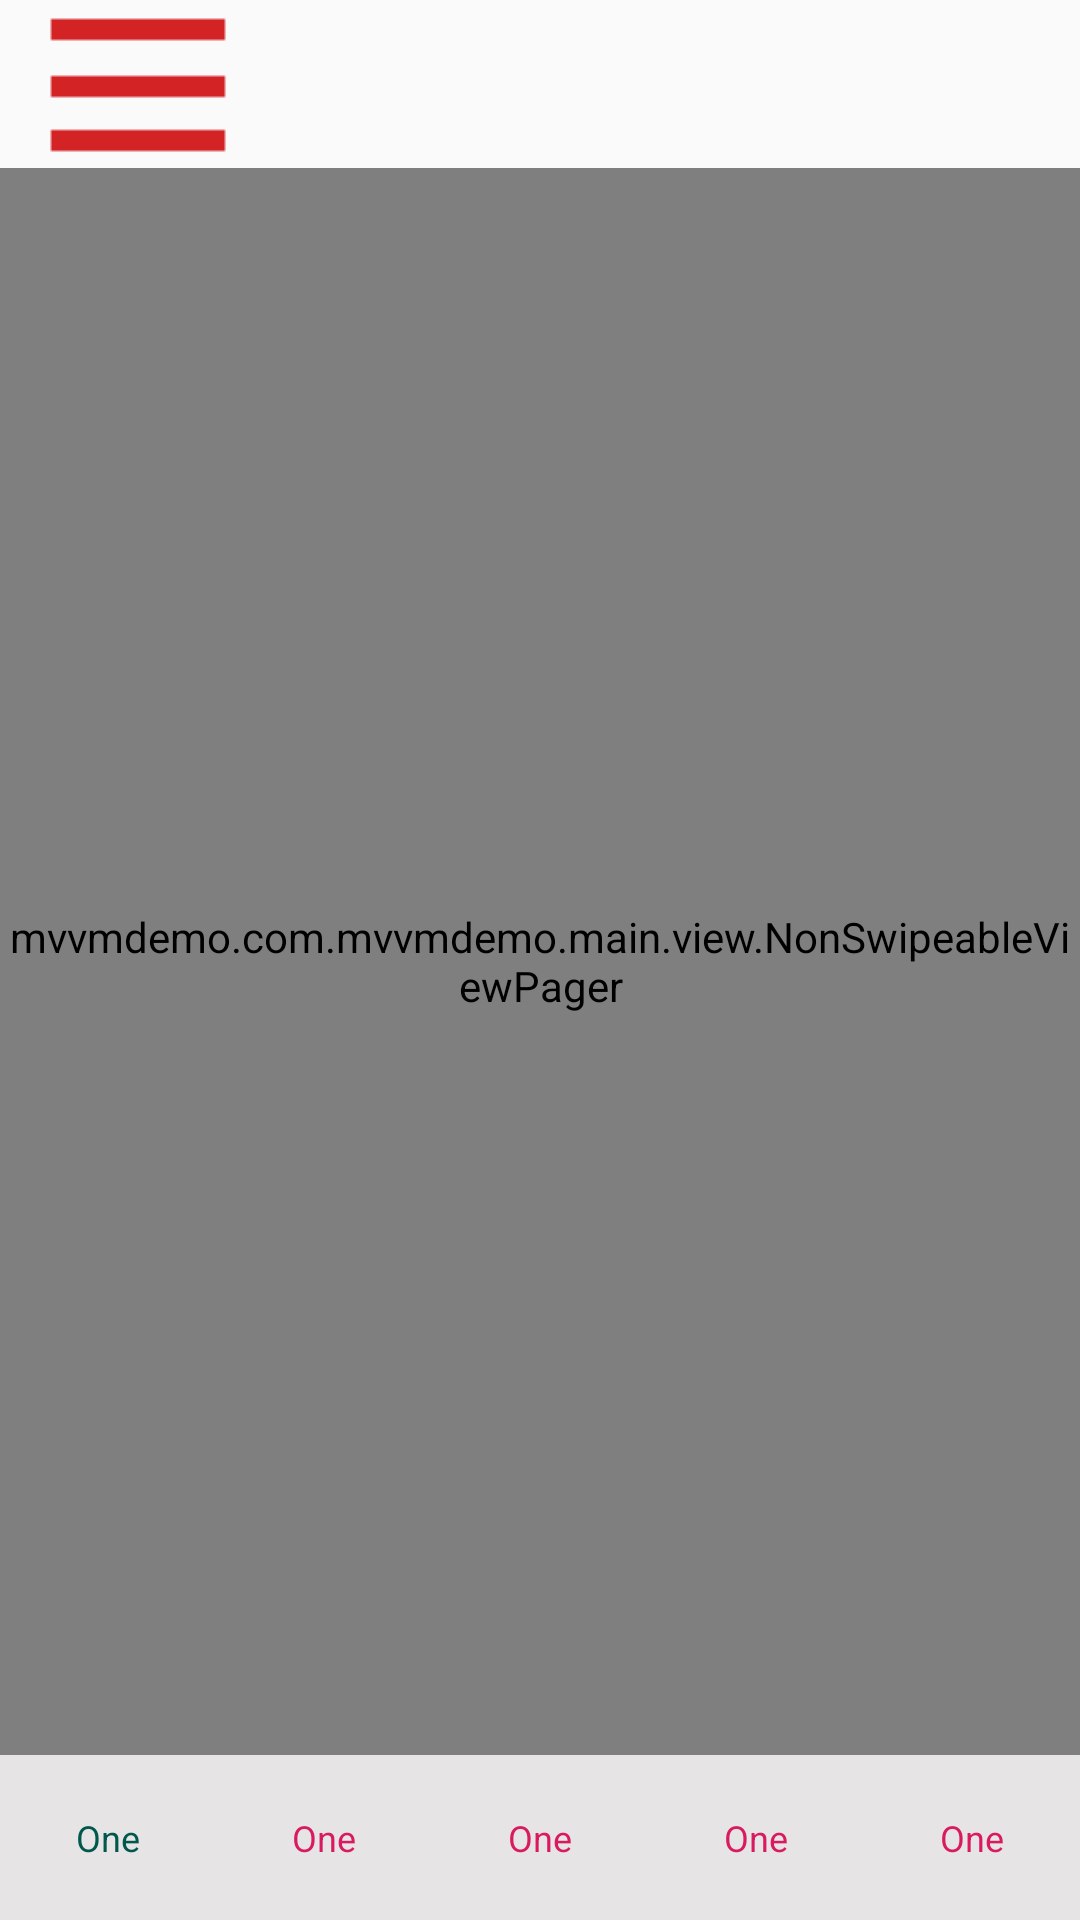

Where to tap for icons on this 1080 x 1920 app screen, as [x,y]:
nav: [138,85]
